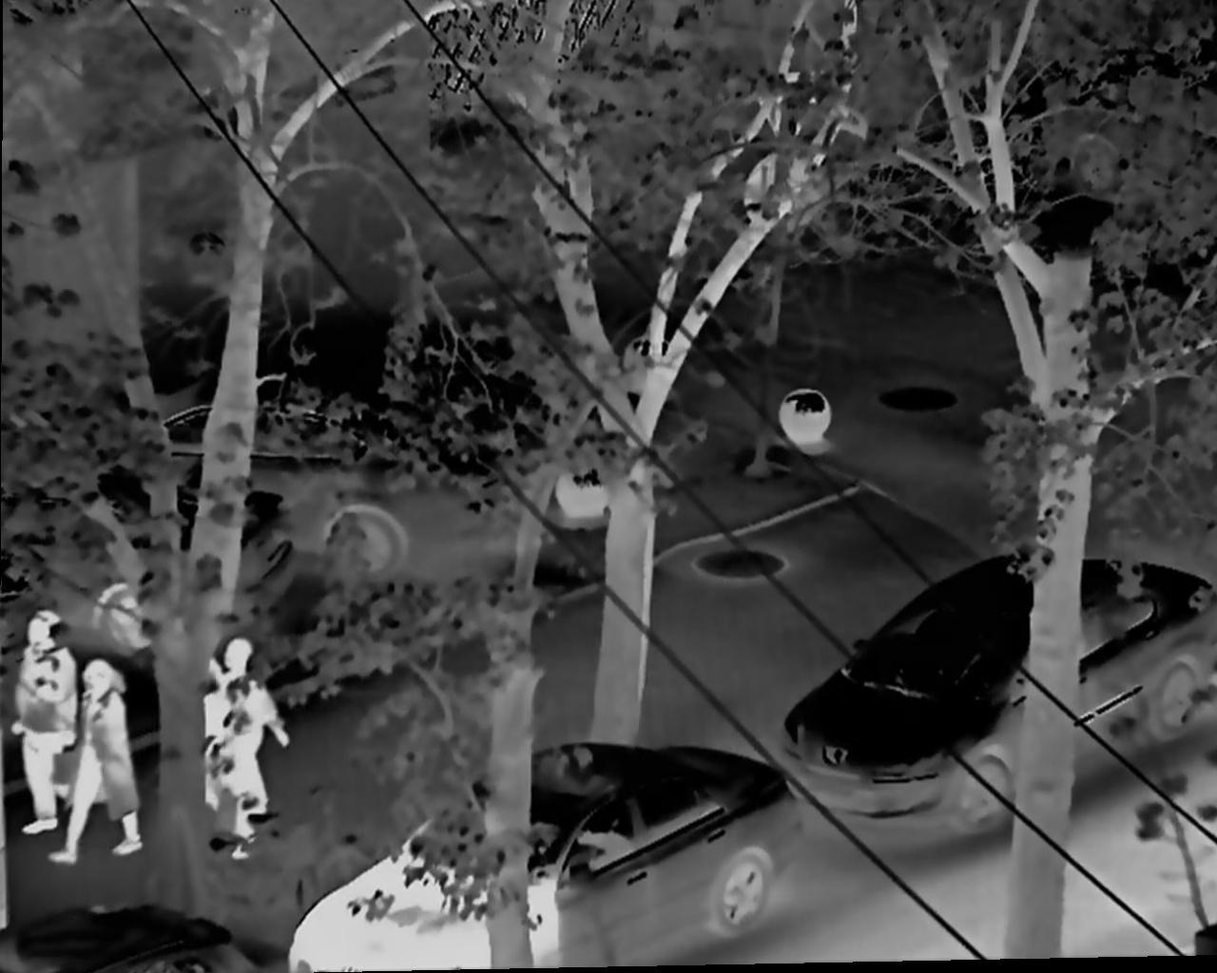person: (199, 637, 292, 870), (60, 657, 146, 860), (12, 613, 76, 846)
